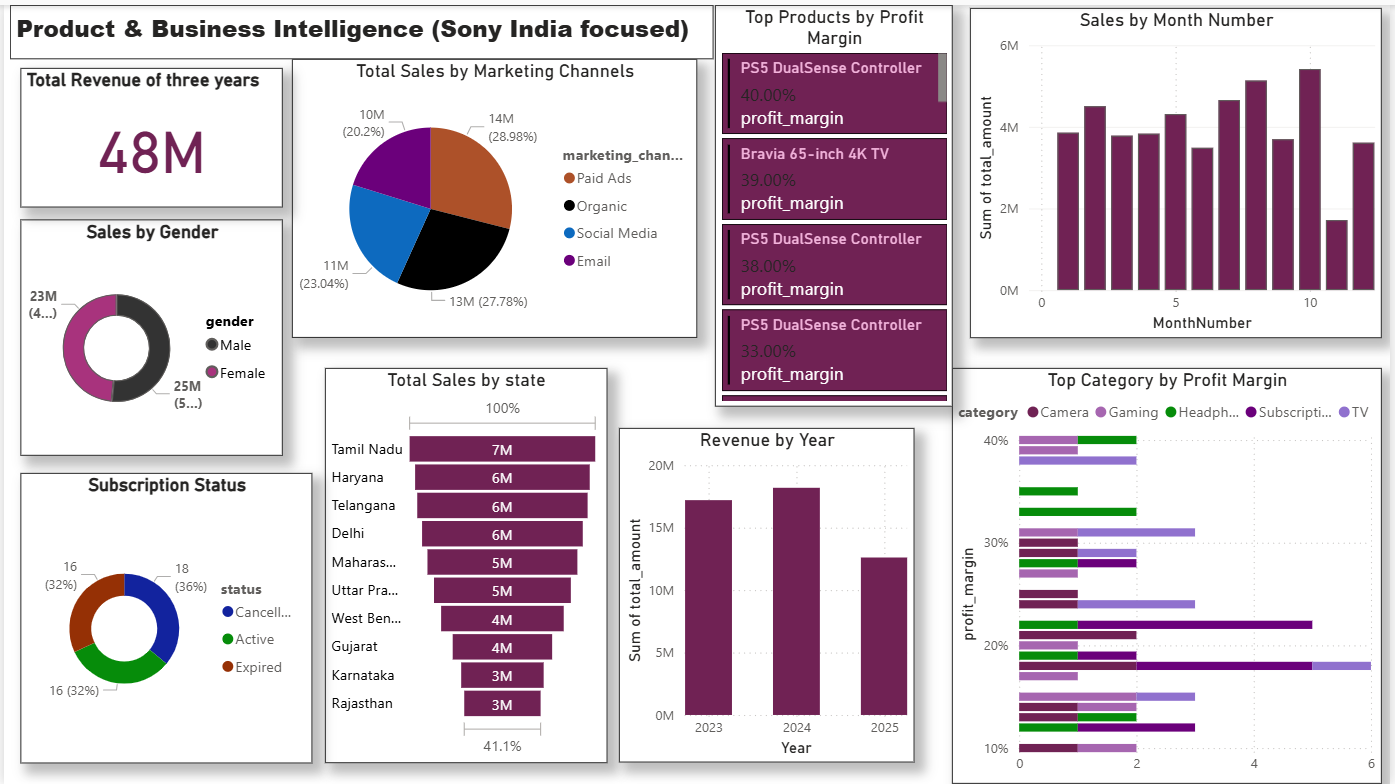

The dashboard page shown, as its layout file describes it:
{"tool":"powerbi","page":{"name":"Page 1","canvas":[1280,720],"ordinal":0},"visuals":[{"type":"donutChart","title":"Sales by Gender","fields":{"Category":["customers.gender"],"Y":["Sum(orders.total_amount)"]},"box":[15.1,198.4,242.3,218],"z":0},{"type":"funnel","title":"Total Sales by state","fields":{"Category":["customers.state"],"Y":["Sum(orders.total_amount)"]},"box":[296.8,334.6,260.4,364.9],"z":1000},{"type":"pieChart","title":"Total Sales by Marketing Channels","fields":{"Category":["customers.marketing_channel"],"Y":["Sum(orders.total_amount)"]},"box":[266.5,50,374,257.4],"z":2000},{"type":"card","title":"Total Revenue of three years","fields":{"Values":["Sum(orders.total_amount)"]},"box":[15.1,57.5,242.3,128.7],"z":3000},{"type":"clusteredColumnChart","title":"Sales by Month Number","fields":{"Category":["orders.MonthOrders"],"Y":["Sum(orders.total_amount)"]},"box":[891.9,3,380.1,304.4],"z":4000},{"type":"lineClusteredColumnComboChart","title":"Revenue by Year","fields":{"Category":["orders.Year"],"Y":["Sum(orders.total_amount)"]},"box":[567.8,390.7,272.6,308.9],"z":5000},{"type":"donutChart","title":"Subscription Status","fields":{"Category":["subscriptions.status"],"Y":["CountNonNull(subscriptions.status)"]},"box":[15.1,431.5,269.5,268],"z":6000},{"type":"barChart","title":"Top Category by Profit Margin ","fields":{"Category":["products.profit_margin"],"Series":["products.category"],"Y":["CountNonNull(products.category)"]},"box":[875.2,334.6,396.7,384.6],"z":7000},{"type":"multiRowCard","title":"Top Products by Profit Margin","fields":{"Values":["products.product_name","products.profit_margin"]},"box":[655.7,0,219.6,371],"z":8000},{"type":"textbox","box":[6.1,0,649.6,50],"z":8001}]}

Visuals, with their boxes in screenshot pixels (x1, y1, x2, y2), scaled from the page's 1280x720 canvas onto the 1395x784 screenshot:
"Sales by Gender" donutChart: box=[16, 216, 281, 453]
"Total Sales by state" funnel: box=[323, 364, 607, 762]
"Total Sales by Marketing Channels" pieChart: box=[290, 54, 698, 335]
"Total Revenue of three years" card: box=[16, 63, 281, 203]
"Sales by Month Number" clusteredColumnChart: box=[972, 3, 1386, 335]
"Revenue by Year" lineClusteredColumnComboChart: box=[619, 425, 916, 762]
"Subscription Status" donutChart: box=[16, 470, 310, 762]
"Top Category by Profit Margin " barChart: box=[954, 364, 1386, 783]
"Top Products by Profit Margin" multiRowCard: box=[715, 0, 954, 404]
textbox: box=[7, 0, 715, 54]
